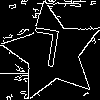L: (27, 27, 62, 77)
